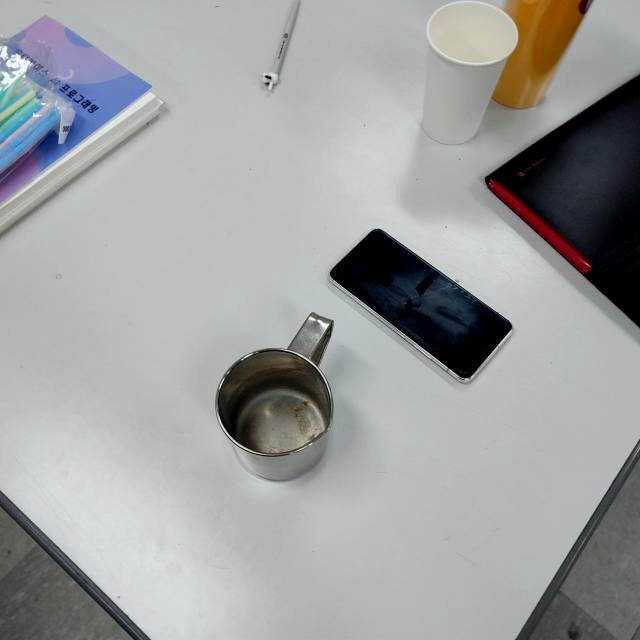cup: (213, 312, 336, 487)
phone: (326, 226, 514, 385)
